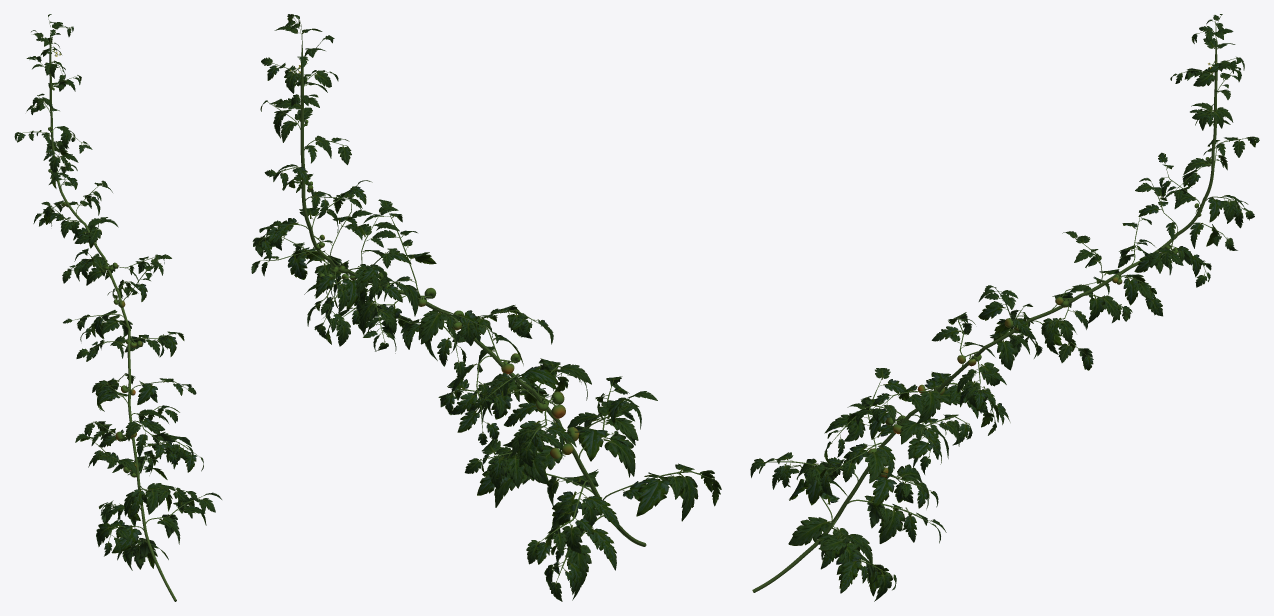
Rendered from tomato_003.glb.
The picture shows the model from 3 angles, left to right: view 1: azimuth 30°, elevation 25°; view 2: azimuth 150°, elevation 25°; view 3: azimuth 270°, elevation 25°; orthographic projection. The views are drawn at different scales.
Parts seen in each view (by area): view 1: tomato_003; view 2: tomato_003; view 3: tomato_003.
Part boxes in pixels (x1,y1,x2,y2): tomato_003: (14,14,221,601); tomato_003: (251,14,721,601); tomato_003: (750,14,1259,601).
Bounding box in the file's own units: 1.01 × 2.77 × 2.09.
16 materials, 15 textured.
